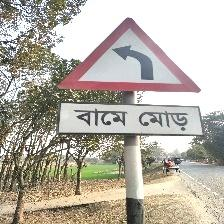Left-Turn: (55, 16, 204, 139)
